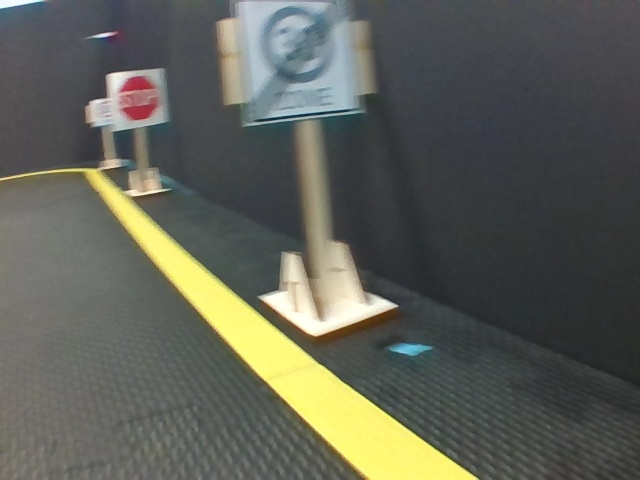30: (90, 100, 109, 128)
no30: (241, 1, 361, 114)
stop: (108, 73, 168, 123)
